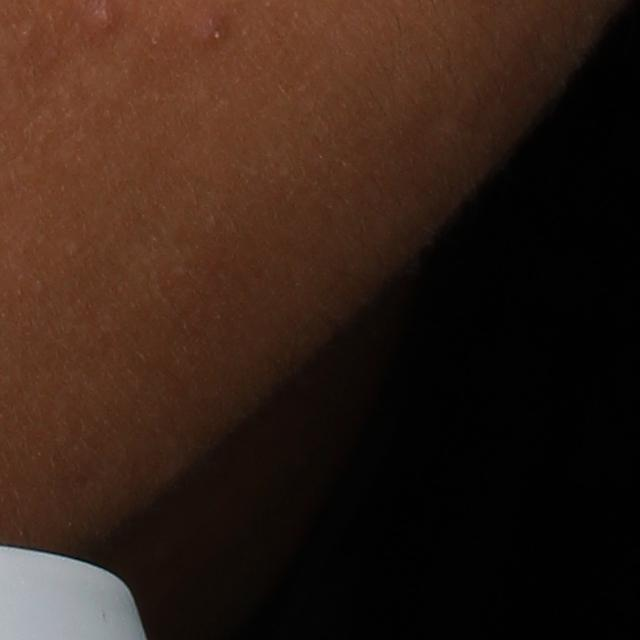papule: (196, 15, 233, 51)
